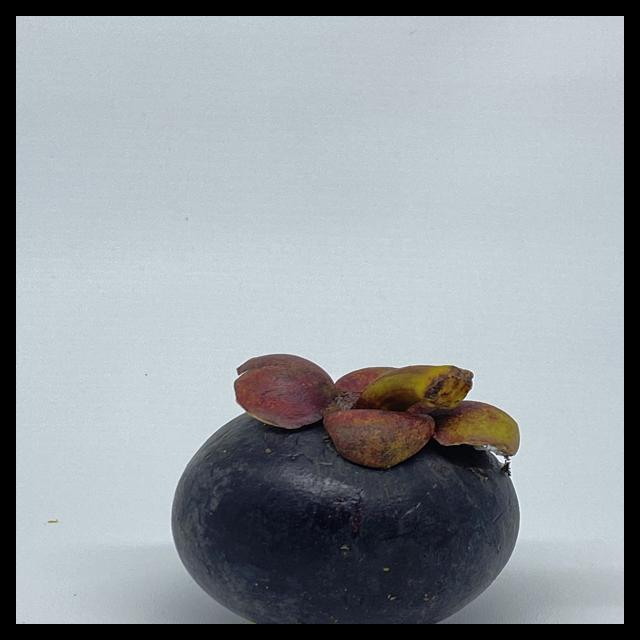mangosteen: (168, 299, 521, 624)
